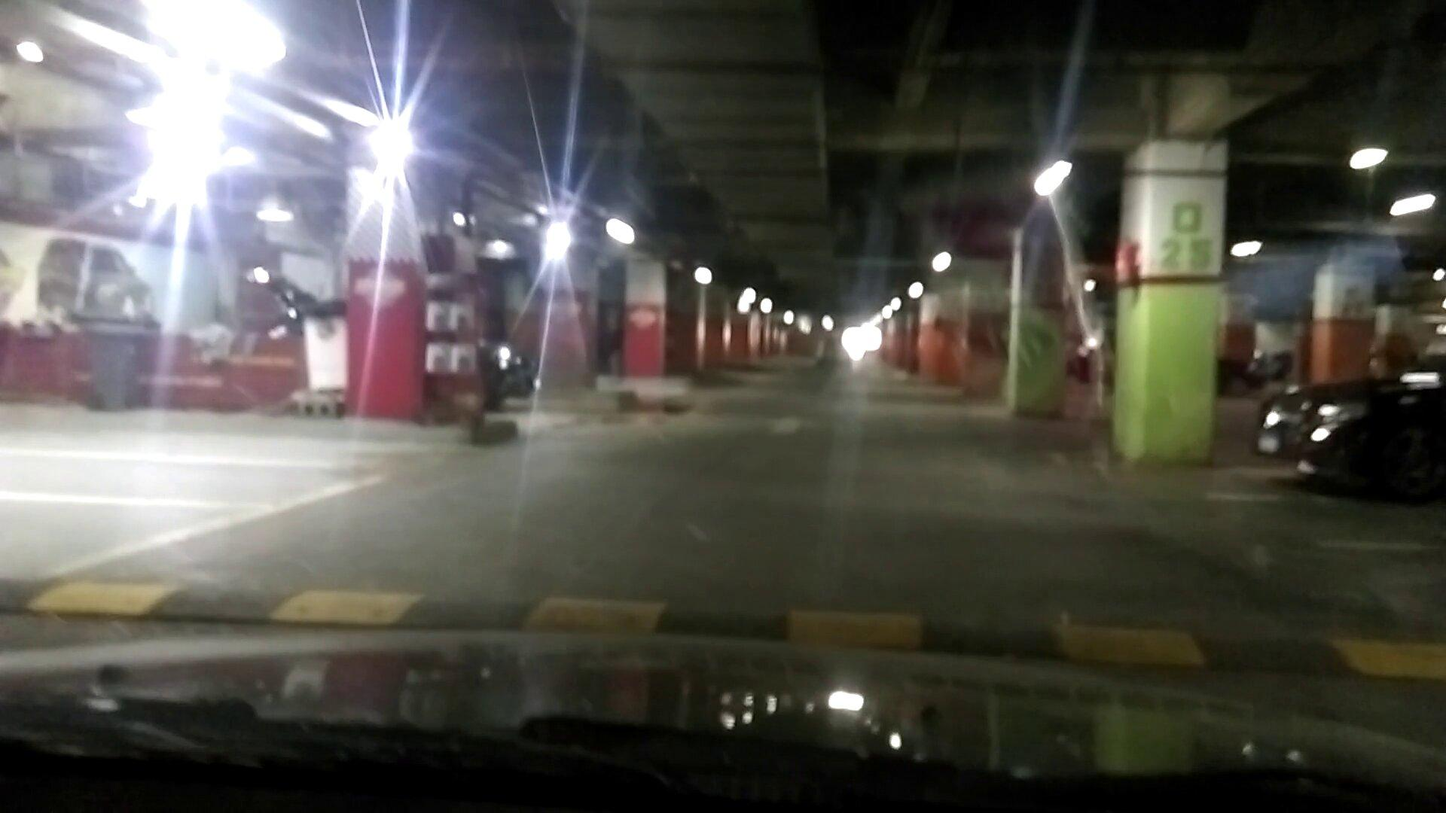Bump: (0, 563, 1446, 706)
